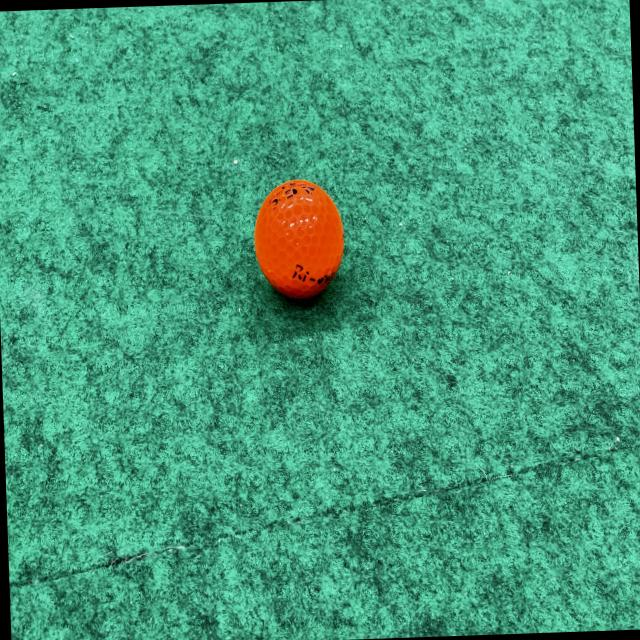ball: (250, 175, 349, 308)
